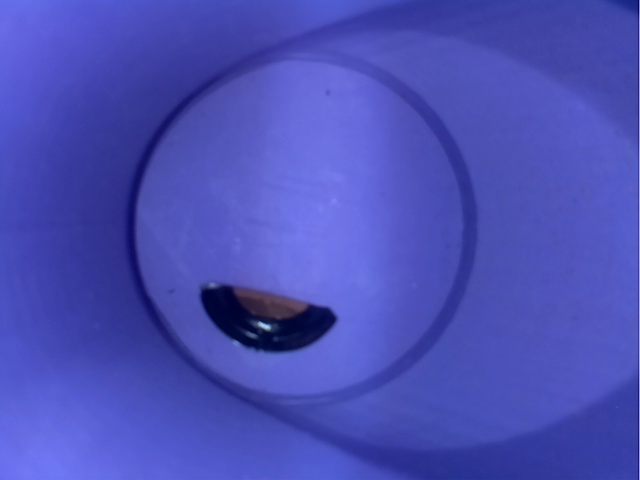capsule: (169, 260, 364, 372)
